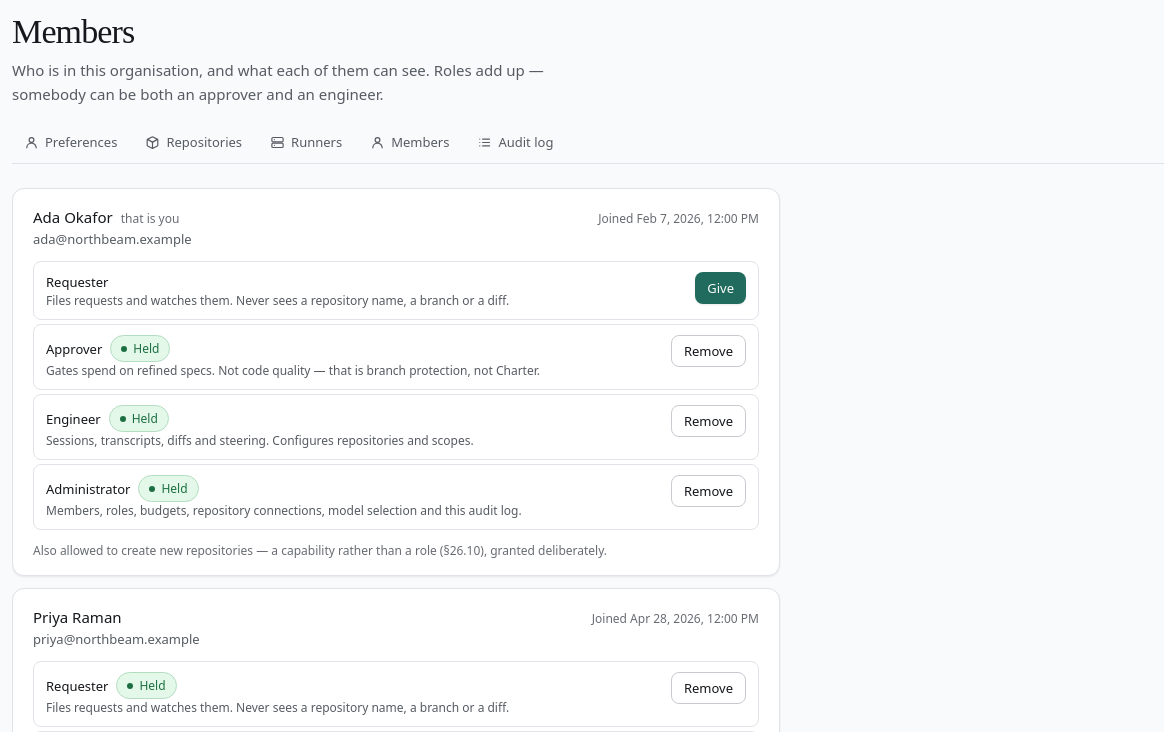
Settings → Members (§7.1) › shows the server sentence when removing the last administrator is refused
This screenshot has width=1164, height=732.
Click the 1st button "Remove": point(708, 351) [671,335,746,367]
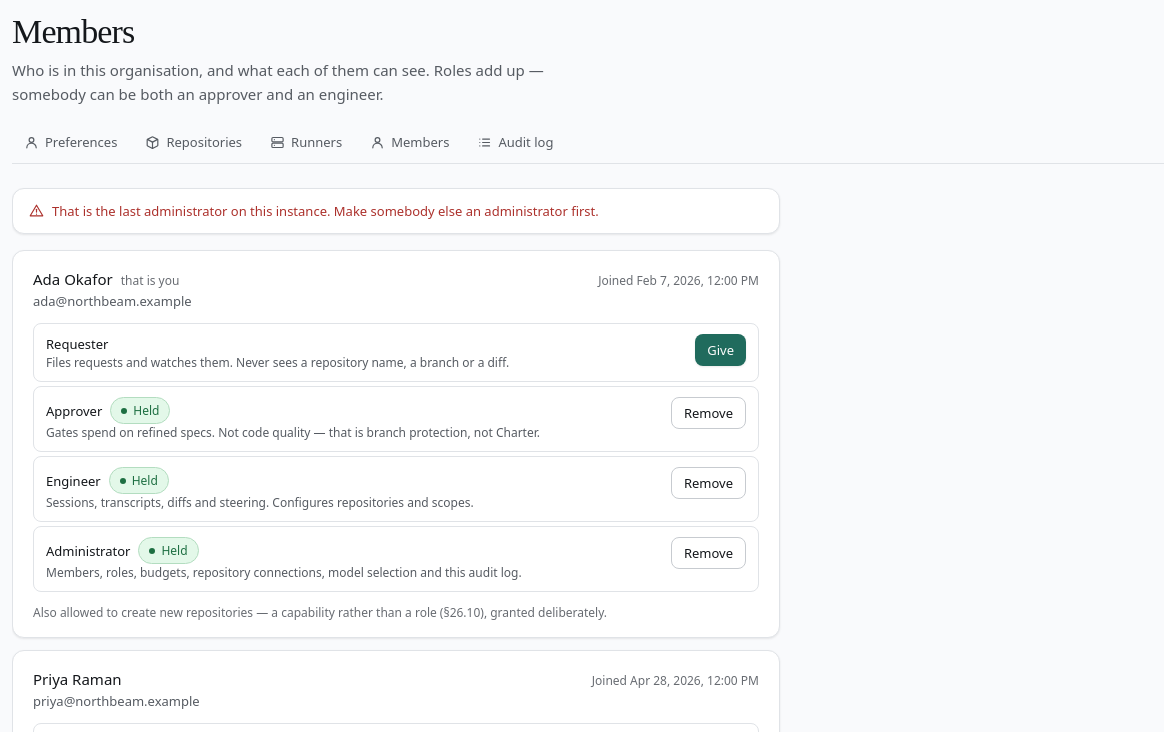
Expected: the message shows "last administrator on this instance", [52,202,599,220]
